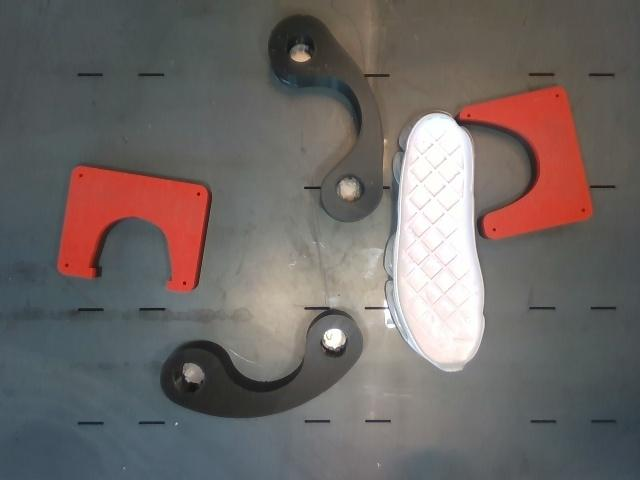shoes: (397, 113, 483, 371)
